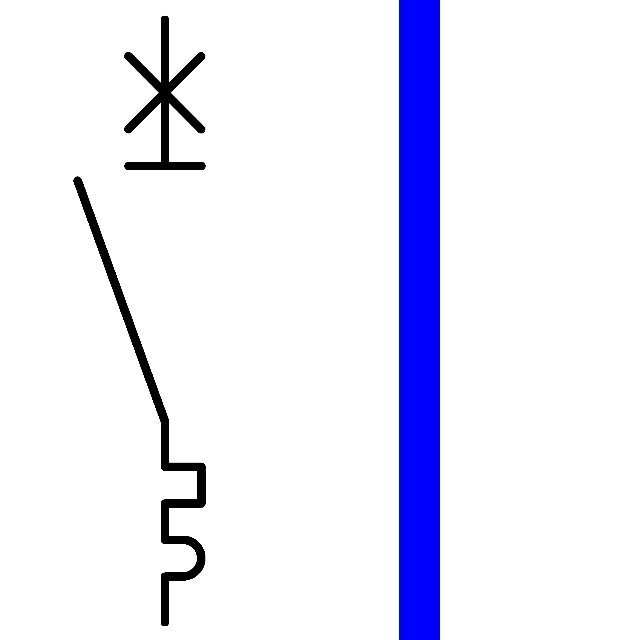interruptor_termomagnetico: (62, 4, 217, 638)
